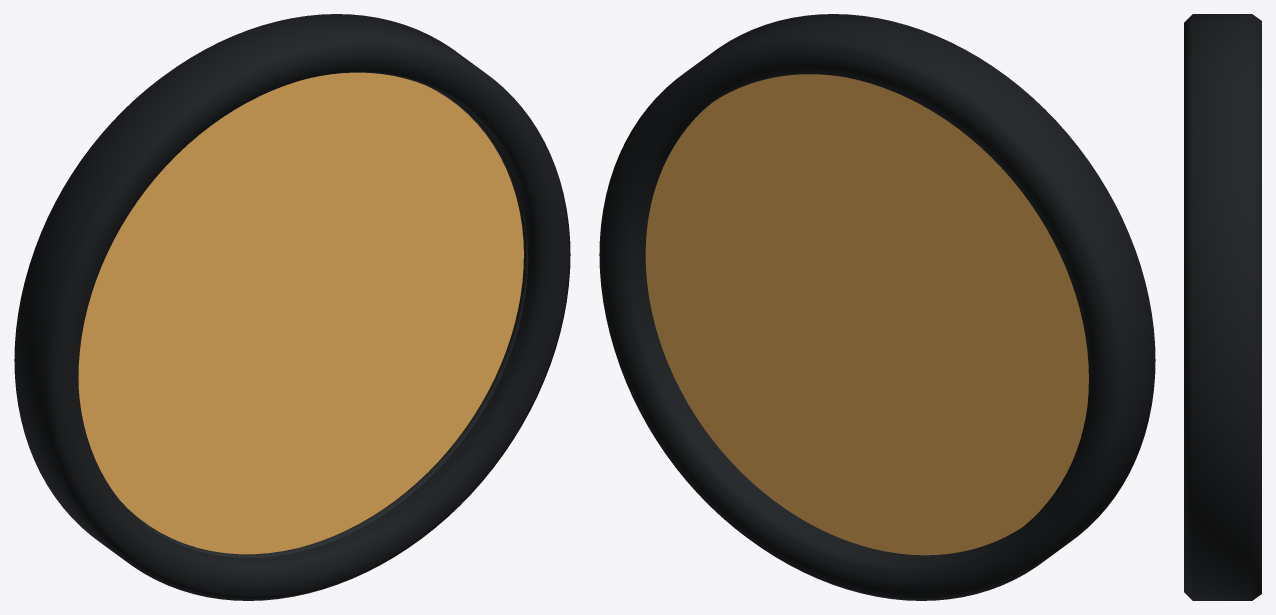
Rendered from filter_orange.glb.
3 views of the same model, side by side, from view 1: azimuth 30°, elevation 25°; view 2: azimuth 150°, elevation 25°; view 3: azimuth 270°, elevation 25° (orthographic). The views are drawn at different scales.
Parts seen in each view (by area): view 1: Filter_Orange_OpticalElement, Filter_Orange_Frame, Filter_Orange_RetainingRim; view 2: Filter_Orange_OpticalElement, Filter_Orange_Frame; view 3: Filter_Orange_Frame.
Boxes of the visible parts, box(x1,y1,x2,y2) form: Filter_Orange_OpticalElement: box(78, 72, 523, 554); Filter_Orange_Frame: box(14, 14, 570, 600); Filter_Orange_RetainingRim: box(121, 85, 528, 558); Filter_Orange_OpticalElement: box(645, 74, 1088, 555); Filter_Orange_Frame: box(599, 14, 1155, 600); Filter_Orange_Frame: box(1184, 14, 1261, 600).
Bounding box in the file's own units: 0.068 × 0.068 × 0.009.
